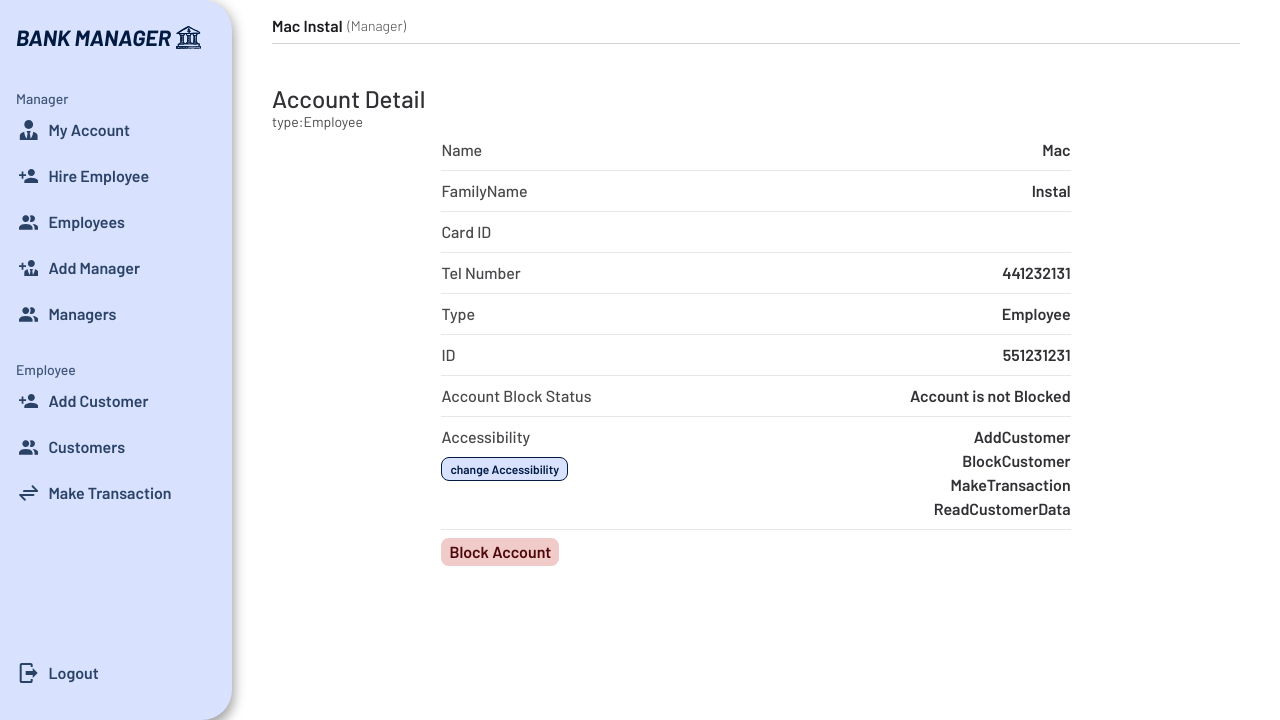
it: Select Accessibility Component › opening component
Click the button with test id "dash-account-changeAccess-button" at (505, 469), box [441, 457, 568, 481]
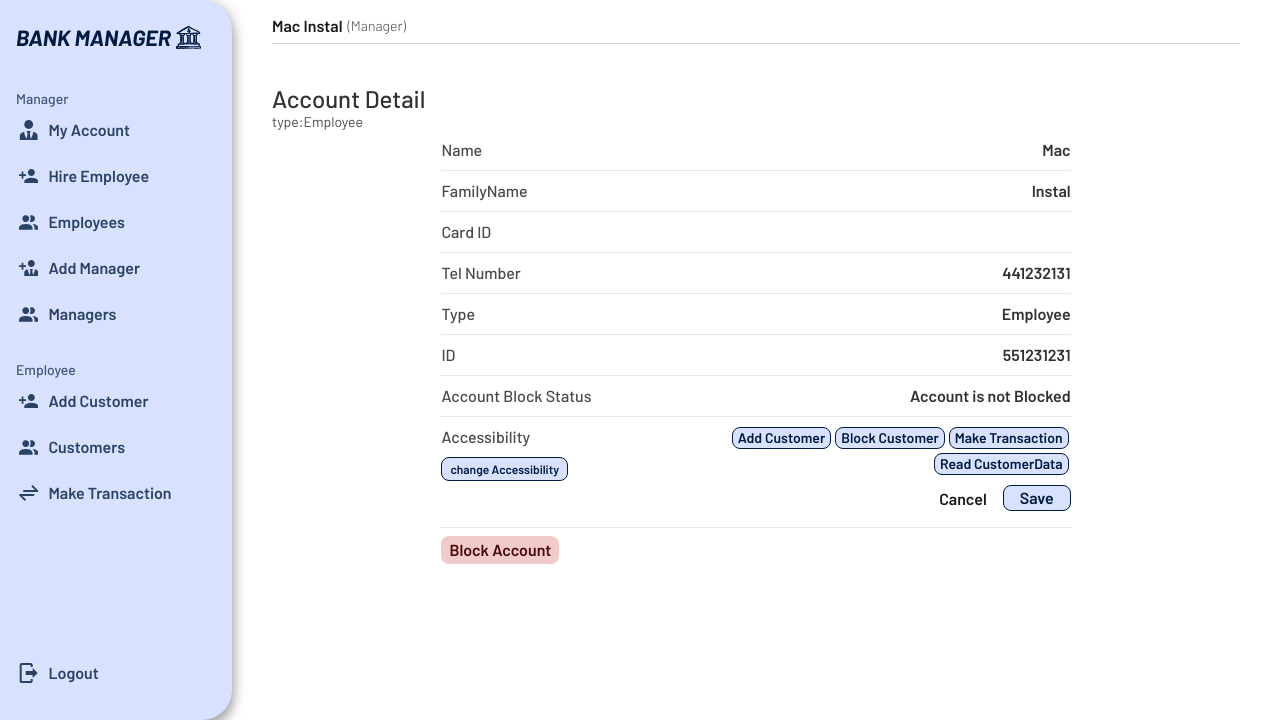
Expected: the element with test id "dash-account-select-holder" is shown, [704, 425, 1071, 519]
